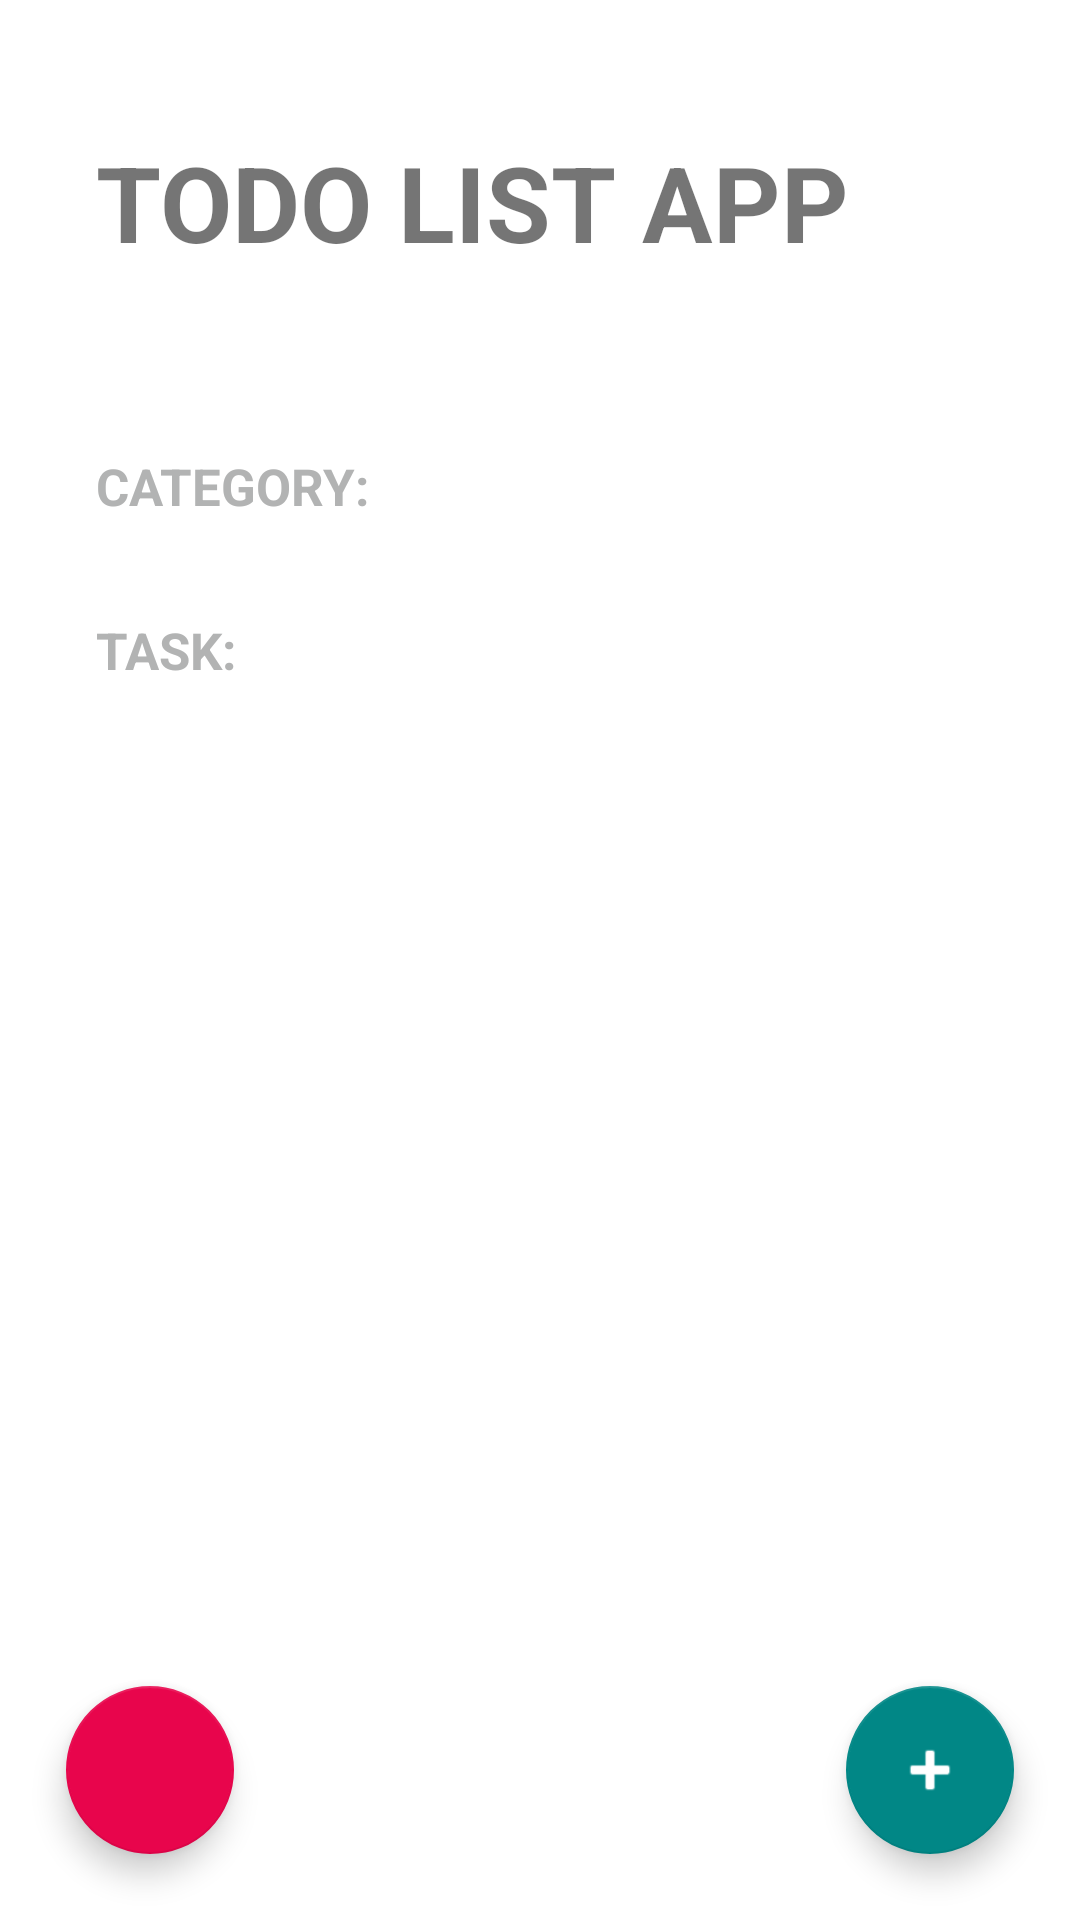

Where icons sit on this 1080 x 1920 app screen, as {"left": x1, "top": y1, "right": x2, "bottom": y2}:
add: {"left": 846, "top": 1686, "right": 1014, "bottom": 1854}
